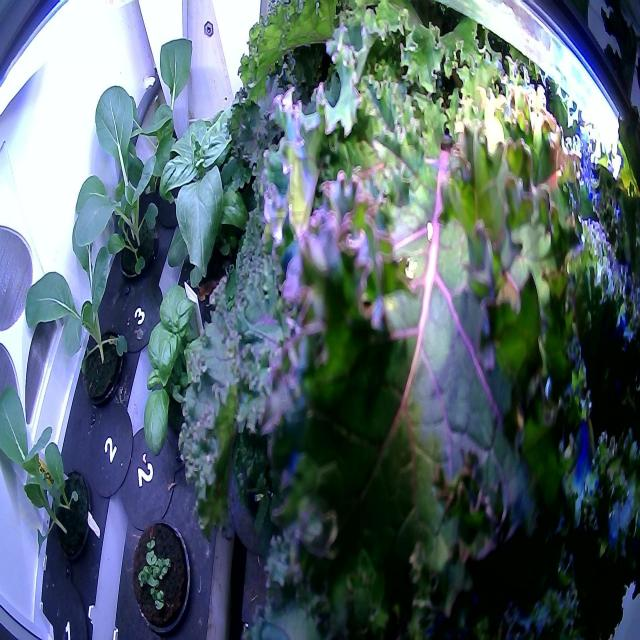germination: (128, 511, 193, 636)
